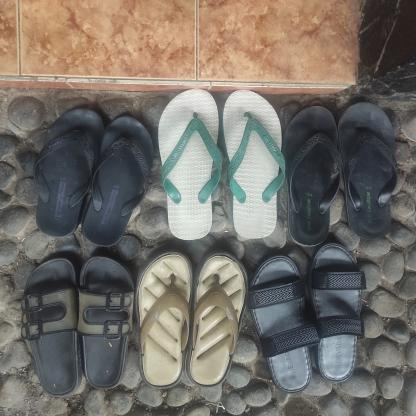Black Slide A: (20, 258, 82, 396), (78, 254, 135, 392)
Black Slide B: (247, 256, 320, 393), (310, 242, 368, 382)
Black Swallow A: (77, 113, 156, 248), (34, 106, 107, 237)
Black Swallow B: (282, 105, 344, 250), (338, 101, 400, 240)
Brown Flip Flop: (189, 247, 248, 389), (138, 254, 194, 386)
Green Swallow: (158, 87, 224, 242), (220, 88, 286, 242)
